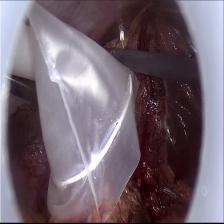Specimen Bag: (25, 8, 143, 224)
